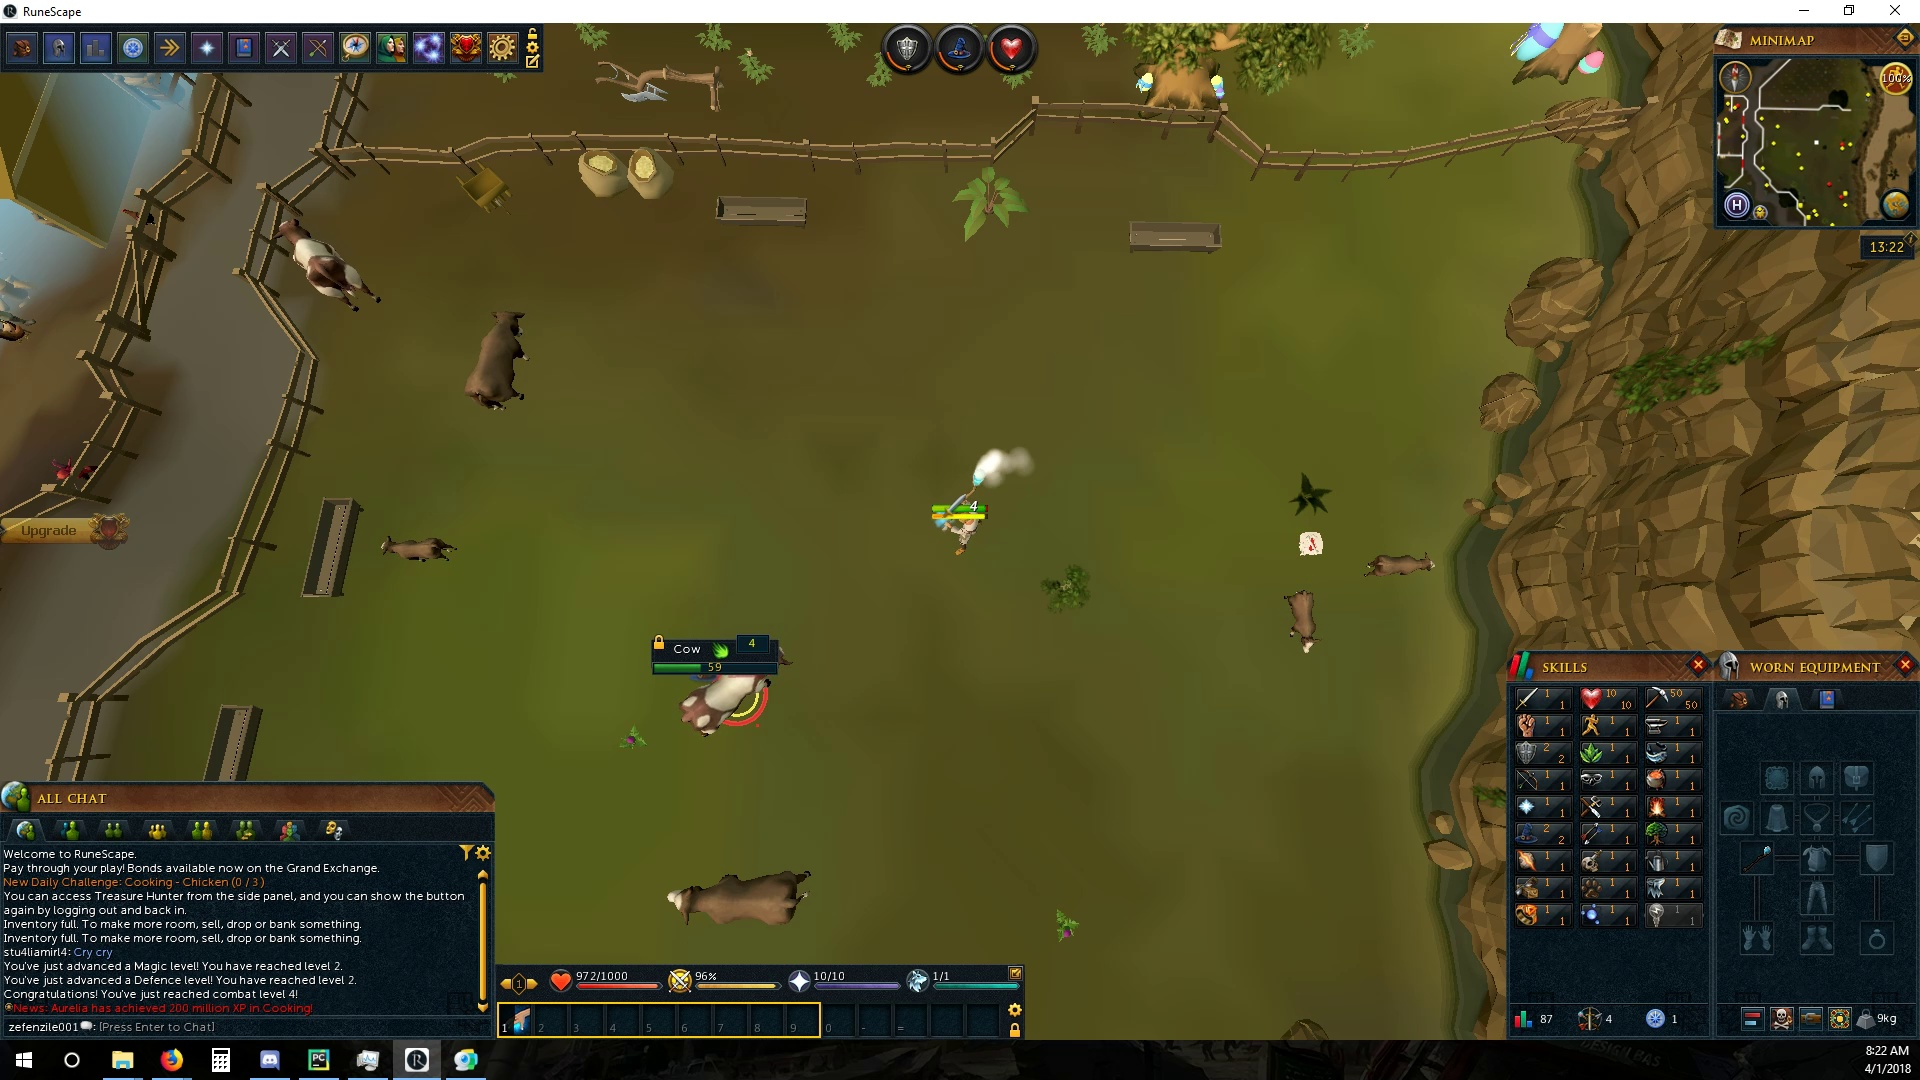calf: (1361, 550, 1443, 585), (377, 531, 462, 564), (1282, 589, 1323, 657)
cow: (273, 215, 386, 313), (676, 640, 787, 738), (666, 868, 816, 926), (458, 305, 529, 415)
cow_drop: (1296, 527, 1327, 560)
